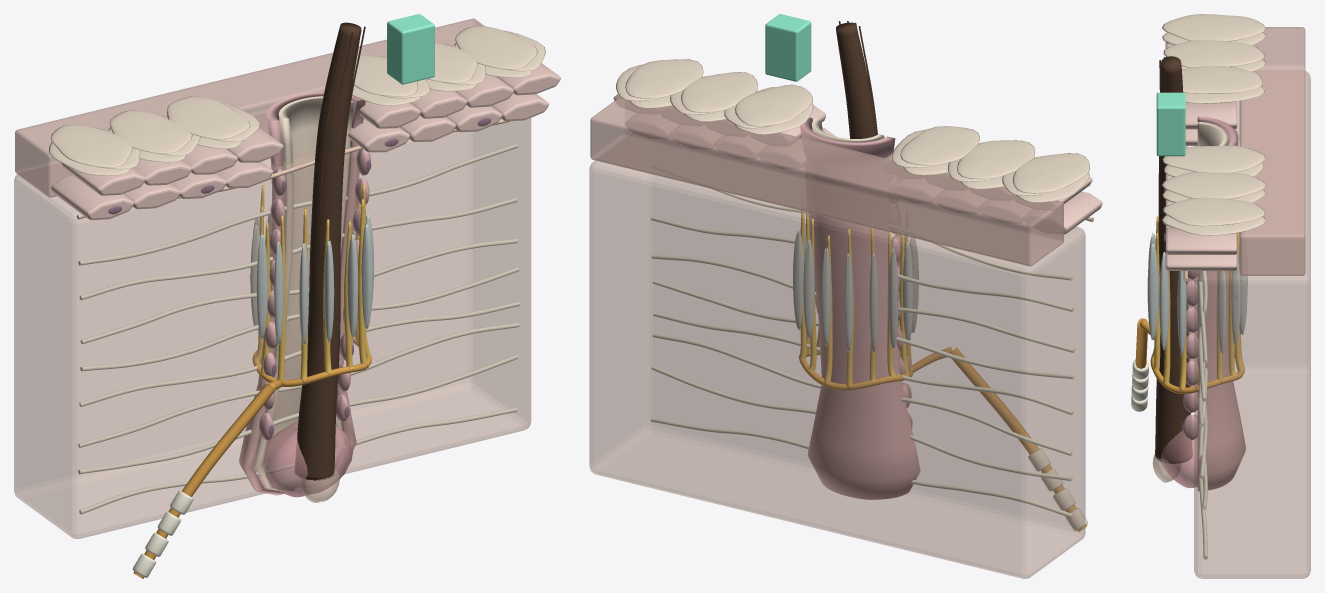
The model's file is hair-follicle-BIimP9fU.glb.
3 views of the same model, side by side, from view 1: azimuth 30°, elevation 25°; view 2: azimuth 150°, elevation 25°; view 3: azimuth 270°, elevation 25° (orthographic). The views are drawn at different scales.
Visible parts, largest first — view 1: hair-follicle__dermis__01, hair-follicle__epidermis__02, hair-follicle__epidermis__23, hair-follicle__dermis__02, hair-follicle__hair-shaft__01, hair-follicle__epidermis__01, hair-follicle__follicle__02, hair-follicle__follicle__01, hair-follicle__follicle__33, hair-follicle__lanceolate-ending__03, hair-follicle__follicle__03, hair-follicle__stimulus-probe__01 (+4 smaller); view 2: hair-follicle__dermis__01, hair-follicle__epidermis__01, hair-follicle__follicle__01, hair-follicle__epidermis__23, hair-follicle__dermis__02, hair-follicle__epidermis__02, hair-follicle__follicle__33, hair-follicle__lanceolate-ending__03, hair-follicle__hair-shaft__01, hair-follicle__stimulus-probe__01, hair-follicle__axon__01, hair-follicle__myelin__01 (+1 smaller); view 3: hair-follicle__dermis__01, hair-follicle__epidermis__23, hair-follicle__epidermis__01, hair-follicle__follicle__01, hair-follicle__hair-shaft__01, hair-follicle__follicle__33, hair-follicle__epidermis__02, hair-follicle__lanceolate-ending__03, hair-follicle__dermis__02, hair-follicle__stimulus-probe__01, hair-follicle__follicle__03, hair-follicle__lanceolate-ending__01 (+4 smaller).
Boxes of the visible parts, <box> form: hair-follicle__dermis__01: <box>14,114,531,538</box>; hair-follicle__epidermis__02: <box>51,63,560,220</box>; hair-follicle__epidermis__23: <box>49,26,545,175</box>; hair-follicle__dermis__02: <box>78,143,519,514</box>; hair-follicle__hair-shaft__01: <box>294,22,365,480</box>; hair-follicle__epidermis__01: <box>15,18,484,197</box>; hair-follicle__follicle__02: <box>254,96,354,490</box>; hair-follicle__follicle__01: <box>239,91,370,495</box>; hair-follicle__follicle__33: <box>250,206,374,345</box>; hair-follicle__lanceolate-ending__03: <box>253,184,371,381</box>; hair-follicle__follicle__03: <box>263,422,352,497</box>; hair-follicle__stimulus-probe__01: <box>387,14,434,84</box>; hair-follicle__dermis__01: <box>589,139,1085,578</box>; hair-follicle__epidermis__01: <box>590,97,1063,266</box>; hair-follicle__follicle__01: <box>800,117,920,499</box>; hair-follicle__epidermis__23: <box>616,59,1089,202</box>; hair-follicle__dermis__02: <box>650,188,1074,518</box>; hair-follicle__epidermis__02: <box>613,94,1102,234</box>; hair-follicle__follicle__33: <box>793,221,918,352</box>; hair-follicle__lanceolate-ending__03: <box>799,211,911,388</box>; hair-follicle__hair-shaft__01: <box>836,21,877,138</box>; hair-follicle__stimulus-probe__01: <box>765,14,811,81</box>; hair-follicle__axon__01: <box>950,348,1086,531</box>; hair-follicle__myelin__01: <box>1028,448,1087,530</box>; hair-follicle__dermis__01: <box>1194,71,1310,578</box>; hair-follicle__epidermis__23: <box>1161,14,1266,235</box>; hair-follicle__epidermis__01: <box>1239,27,1305,275</box>; hair-follicle__follicle__01: <box>1183,116,1245,491</box>; hair-follicle__hair-shaft__01: <box>1155,56,1192,463</box>; hair-follicle__follicle__33: <box>1147,233,1247,354</box>; hair-follicle__epidermis__02: <box>1165,42,1236,270</box>; hair-follicle__lanceolate-ending__03: <box>1151,216,1244,391</box>; hair-follicle__dermis__02: <box>1198,271,1207,559</box>; hair-follicle__stimulus-probe__01: <box>1156,92,1185,156</box>; hair-follicle__follicle__03: <box>1161,415,1197,488</box>; hair-follicle__lanceolate-ending__01: <box>1139,319,1244,393</box>.
Bounding box in the file's own units: 2.82 × 2.74 × 0.9845.
